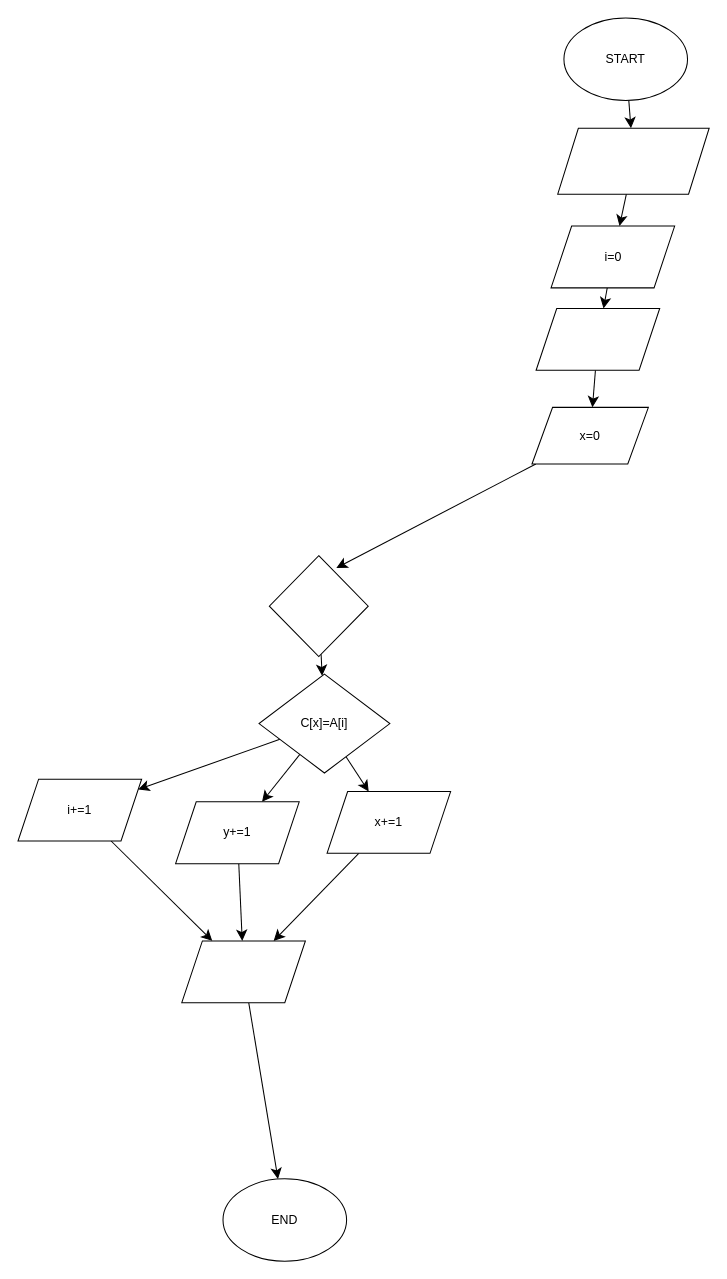
Image size: 727x1279. Some labels were removed from this diagram. The shapes that lost their labels are listed below. From the top down, each one's centre as x and y in pixels, then its label:
At (633,160): "Be: A lista, B lista, n, m".
At (597,338): "y=0".
At (318,606): "A[i]=B[j]".
At (243,971): "Ki: C lista".
